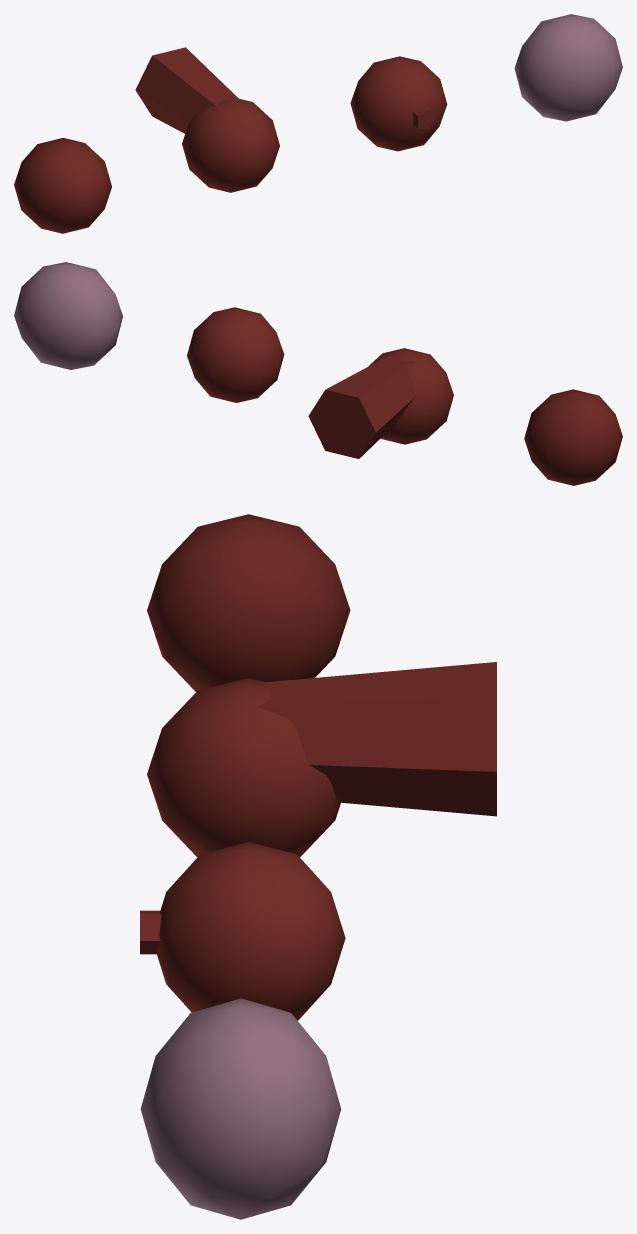
Rendered from SM_NPC_Hair_Variants.glb.
3 views of the same model, one above another, from view 1: azimuth 30°, elevation 25°; view 2: azimuth 150°, elevation 25°; view 3: azimuth 270°, elevation 25° (orthographic). The views are drawn at different scales.
Visible parts, largest first — view 1: asset_npc_hair_variants; view 2: asset_npc_hair_variants; view 3: asset_npc_hair_variants.
Part boxes in pixels (<box>): asset_npc_hair_variants: <box>14,14,622,233</box>; asset_npc_hair_variants: <box>14,262,622,485</box>; asset_npc_hair_variants: <box>140,514,496,1219</box>.
Size of the model in its own units: 1.77 by 0.2904 by 0.46.
1 material, 1 textured.
